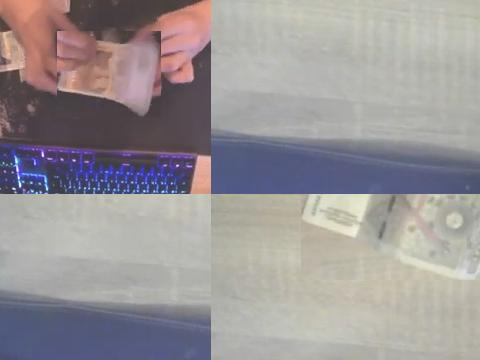10leva: (301, 194, 480, 280)
50leva: (57, 31, 161, 117)
